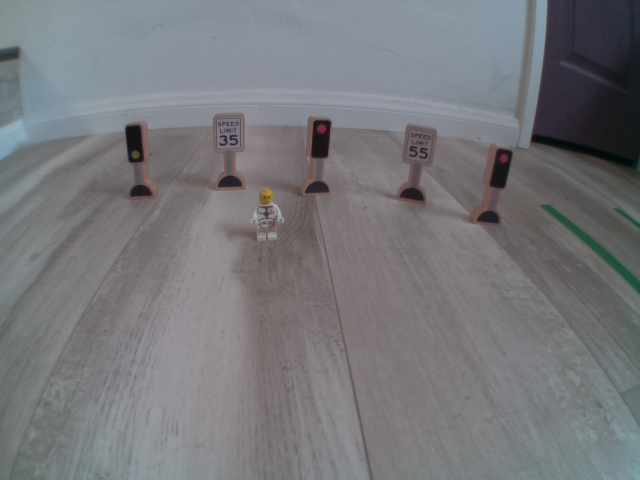Green Traffic Light: (120, 120, 154, 168)
Red Traffic Light: (306, 115, 332, 162), (490, 144, 514, 192)
Speed Limit 35: (212, 111, 249, 153)
Speed Limit 55: (402, 123, 440, 170)
person: (240, 185, 292, 244)
